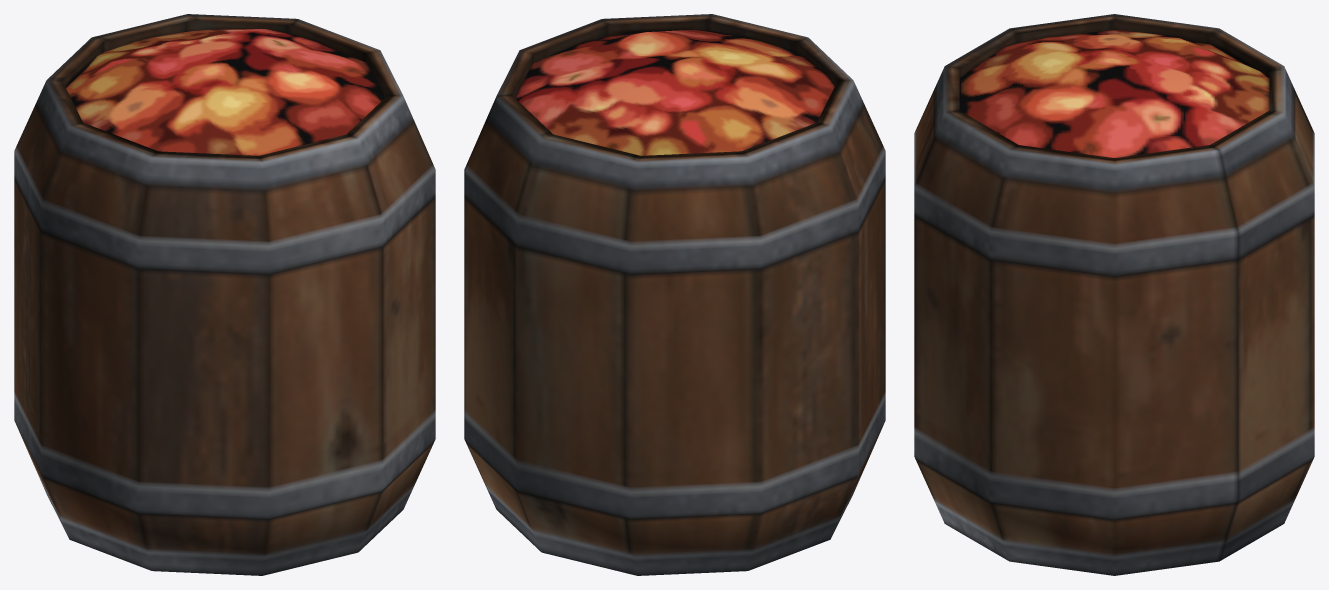
The model's file is Barrel_red_atlas.fbx.
3 views of the same model, side by side, from view 1: azimuth 30°, elevation 25°; view 2: azimuth 150°, elevation 25°; view 3: azimuth 270°, elevation 25° (orthographic).
Visible parts, largest first — view 1: polySurface1; view 2: polySurface1; view 3: polySurface1.
Boxes of the visible parts, x1,y1,x2,y2 form: polySurface1: (14,14,435,575); polySurface1: (464,14,885,575); polySurface1: (914,14,1314,575).
Size of the model in its own units: 0.9039 by 1.03 by 0.8596.
